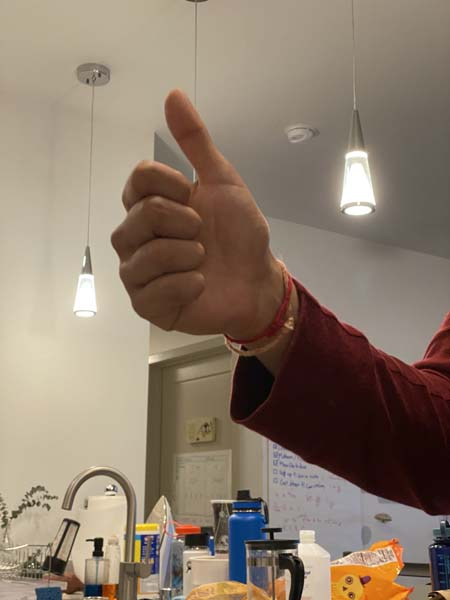Thumbs Up: (101, 83, 303, 374)
